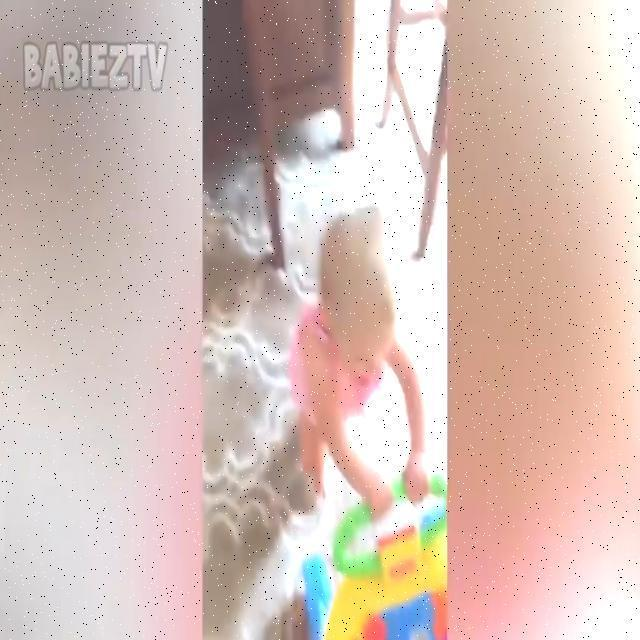child: (293, 202, 431, 534)
